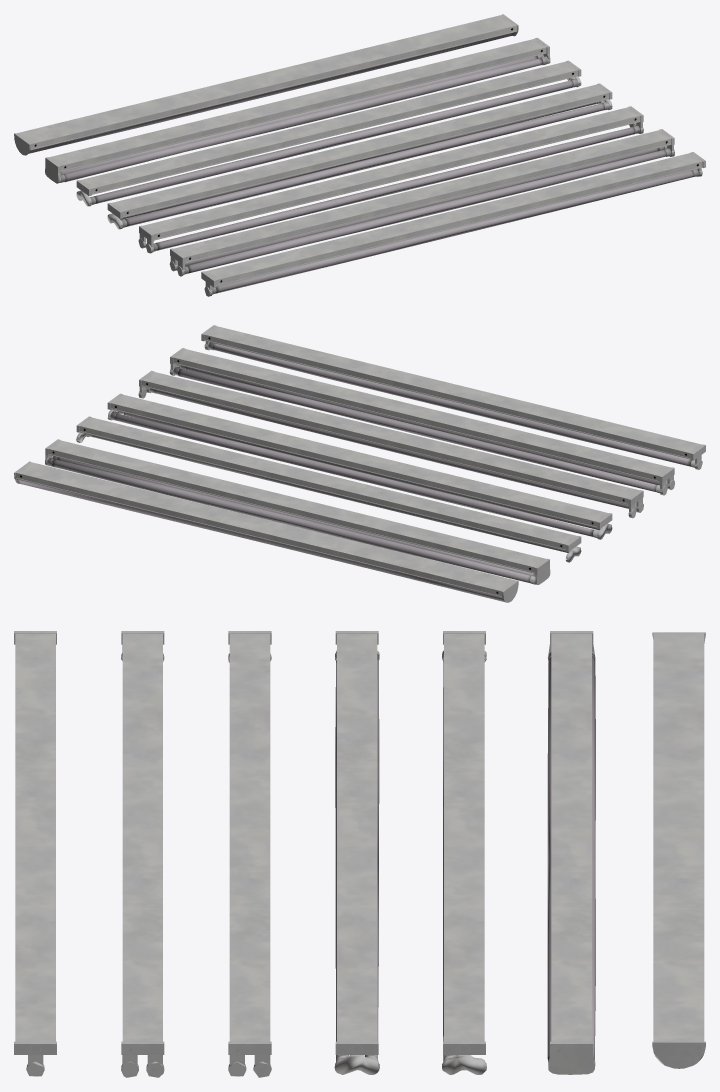
File: mounted_fluorescent_lights.glb
3 views of the same model, one above another, from view 1: azimuth 30°, elevation 25°; view 2: azimuth 150°, elevation 25°; view 3: azimuth 270°, elevation 25° (orthographic). The views are drawn at different scales.
Visible parts, largest first — view 1: mounted_fluorescent_lights_b, mounted_fluorescent_lights_f, mounted_fluorescent_lights_d, mounted_fluorescent_lights_c, mounted_fluorescent_lights_e, mounted_fluorescent_lights_a, mounted_fluorescent_lights_g; view 2: mounted_fluorescent_lights_f, mounted_fluorescent_lights_b, mounted_fluorescent_lights_d, mounted_fluorescent_lights_a, mounted_fluorescent_lights_g, mounted_fluorescent_lights_c, mounted_fluorescent_lights_e; view 3: mounted_fluorescent_lights_g, mounted_fluorescent_lights_f, mounted_fluorescent_lights_d, mounted_fluorescent_lights_c, mounted_fluorescent_lights_e, mounted_fluorescent_lights_b, mounted_fluorescent_lights_a.
Part boxes in pixels (x1,y1,x2,y2): mounted_fluorescent_lights_b: (169,129,674,276); mounted_fluorescent_lights_f: (45,37,550,183); mounted_fluorescent_lights_d: (107,83,612,229); mounted_fluorescent_lights_c: (138,106,643,253); mounted_fluorescent_lights_e: (76,60,581,206); mounted_fluorescent_lights_a: (201,152,705,296); mounted_fluorescent_lights_g: (14,14,518,155); mounted_fluorescent_lights_f: (45,439,550,584); mounted_fluorescent_lights_b: (169,348,674,495); mounted_fluorescent_lights_d: (107,393,612,539); mounted_fluorescent_lights_a: (201,325,705,469); mounted_fluorescent_lights_g: (14,461,518,602); mounted_fluorescent_lights_c: (138,370,643,518); mounted_fluorescent_lights_e: (76,416,581,562); mounted_fluorescent_lights_g: (652,632,705,1068); mounted_fluorescent_lights_f: (547,631,595,1074); mounted_fluorescent_lights_d: (334,631,379,1074); mounted_fluorescent_lights_c: (228,631,271,1077); mounted_fluorescent_lights_e: (442,631,486,1074); mounted_fluorescent_lights_b: (121,631,164,1077); mounted_fluorescent_lights_a: (14,631,56,1076).
Bounding box in the file's own units: 0.9122 × 0.0352 × 0.6454.
2 materials, 2 textured.
